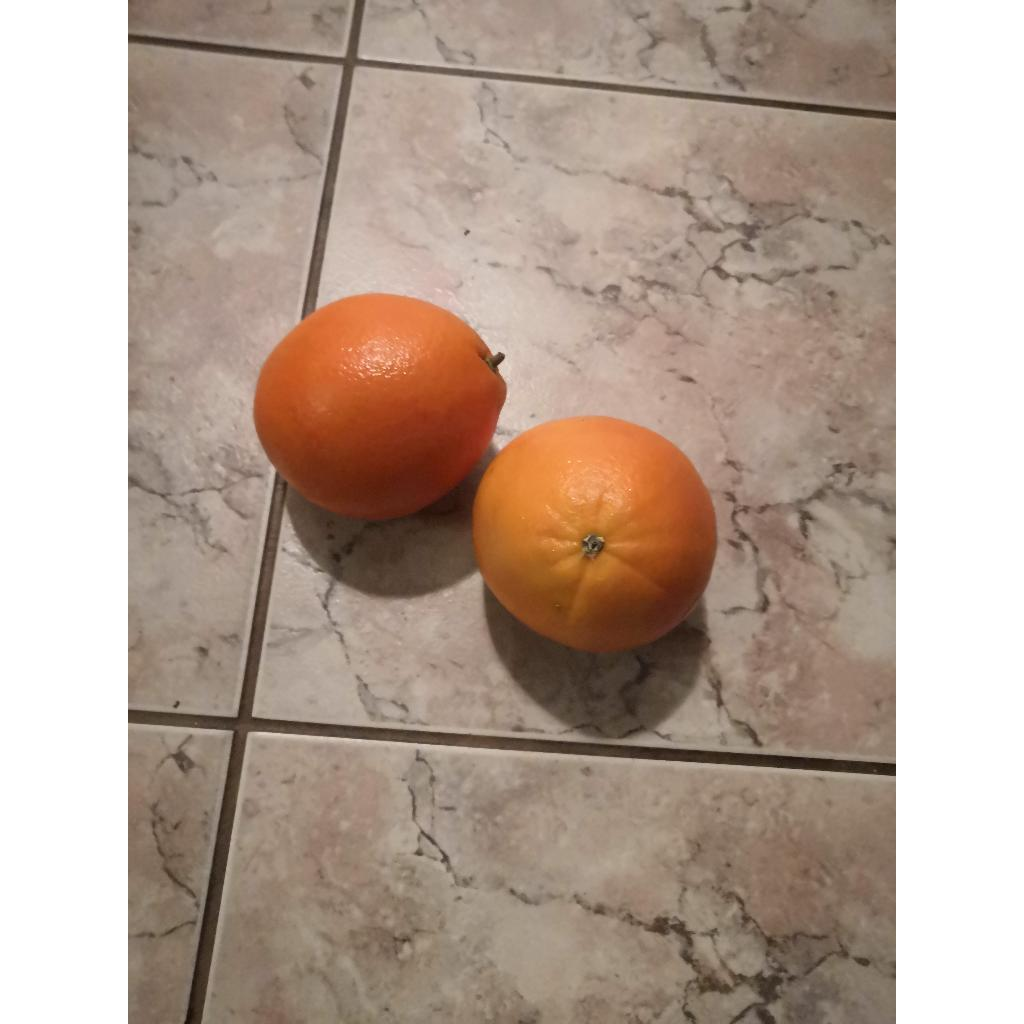orange: (472, 416, 716, 652), (254, 294, 506, 520)
